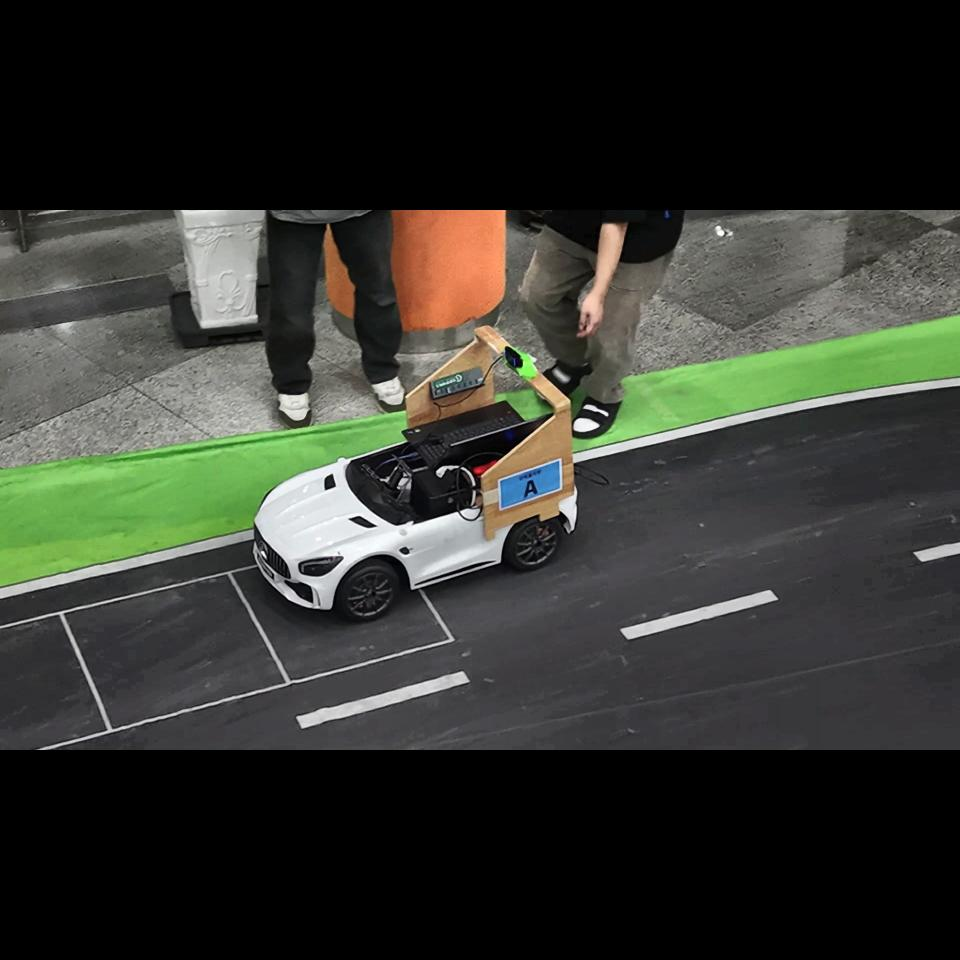broken_line: (296, 671, 470, 728), (619, 590, 779, 640), (913, 542, 960, 562)
